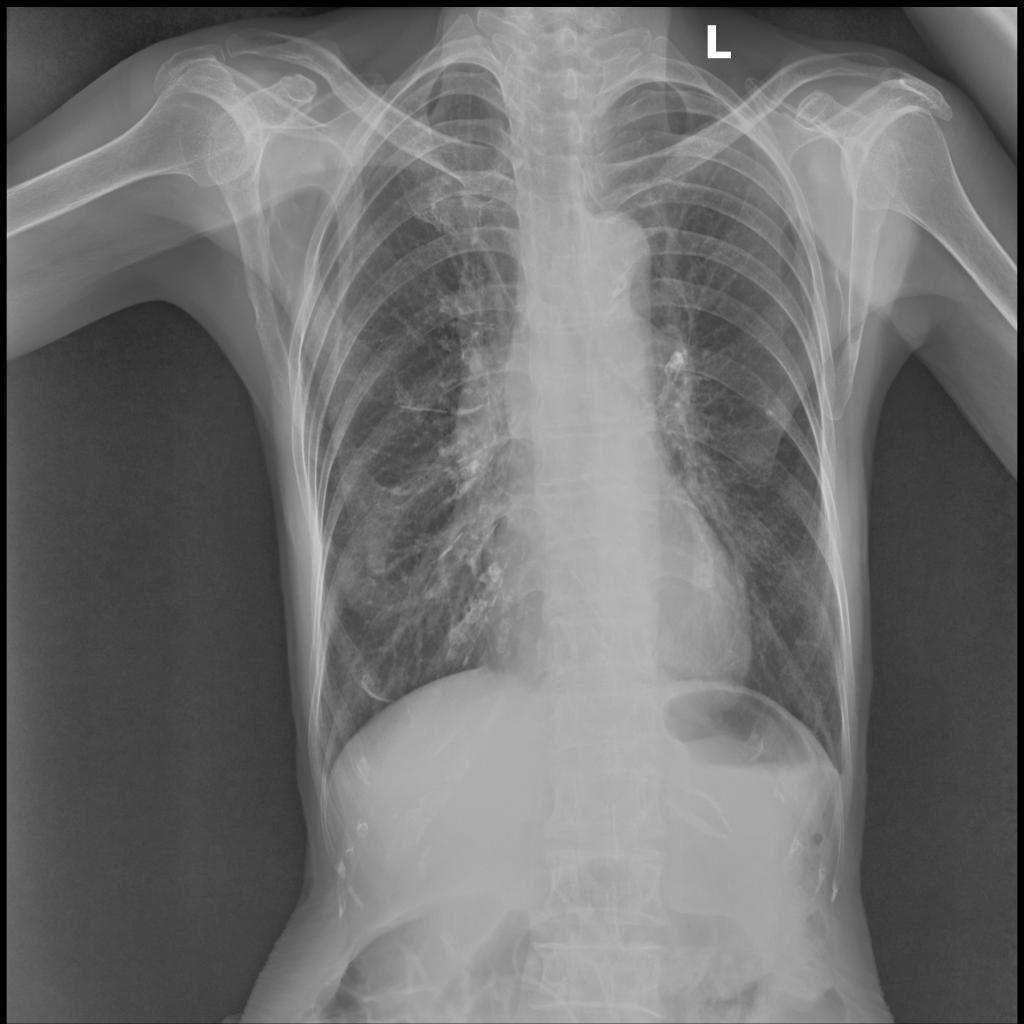Nodule: (365, 552, 388, 575)
